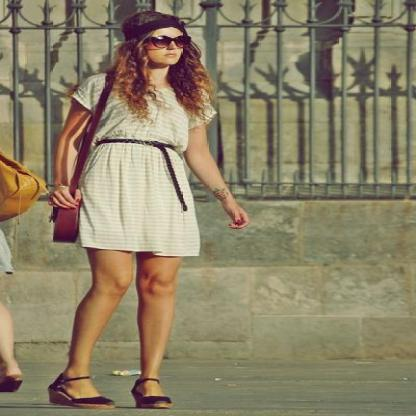bag: (50, 85, 111, 243)
dress: (62, 75, 203, 256)
shoe: (48, 358, 170, 408)
sunglass: (162, 26, 192, 51)
